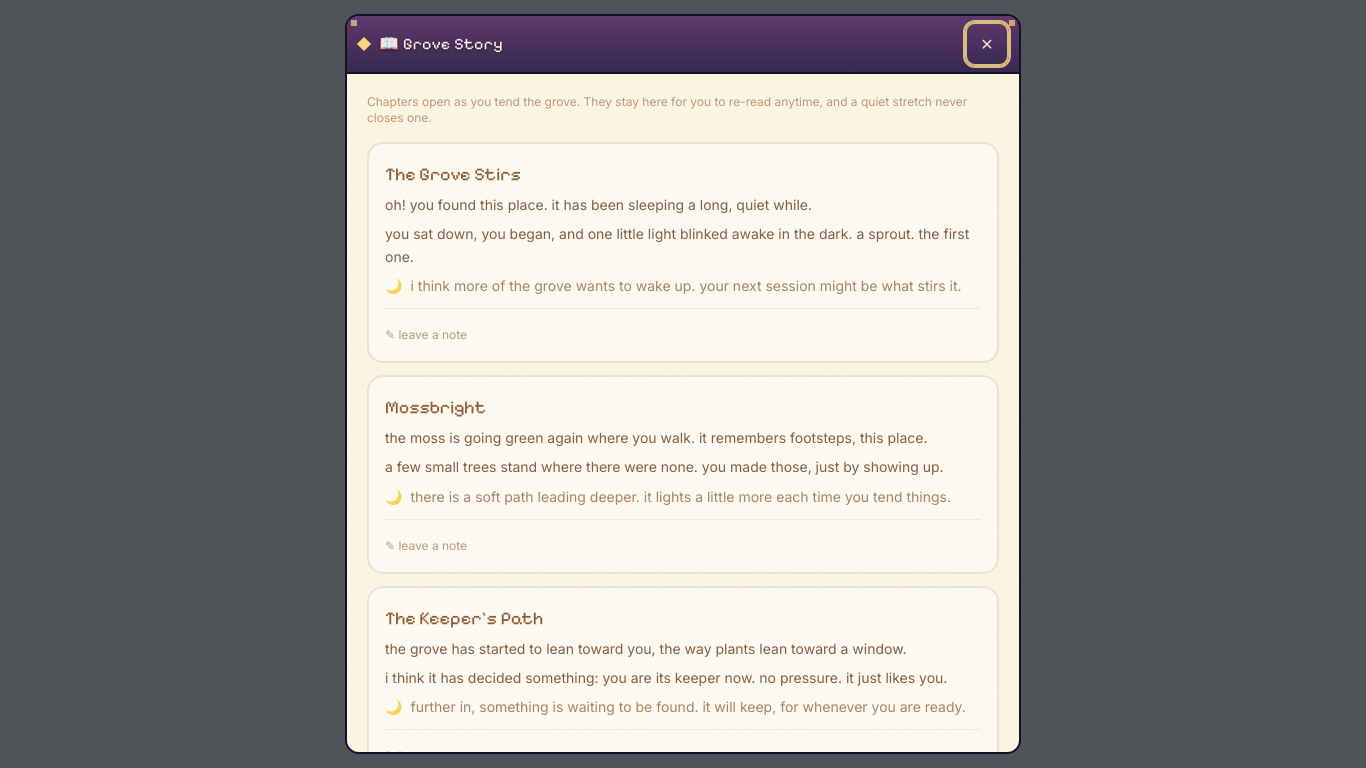
Test: StoryModal › lets her leave a keeper note that persists and reads back as "you wrote"
Click the button "✎ leave a note" below "The Grove Stirs" at (426, 335), box [385, 327, 467, 343]
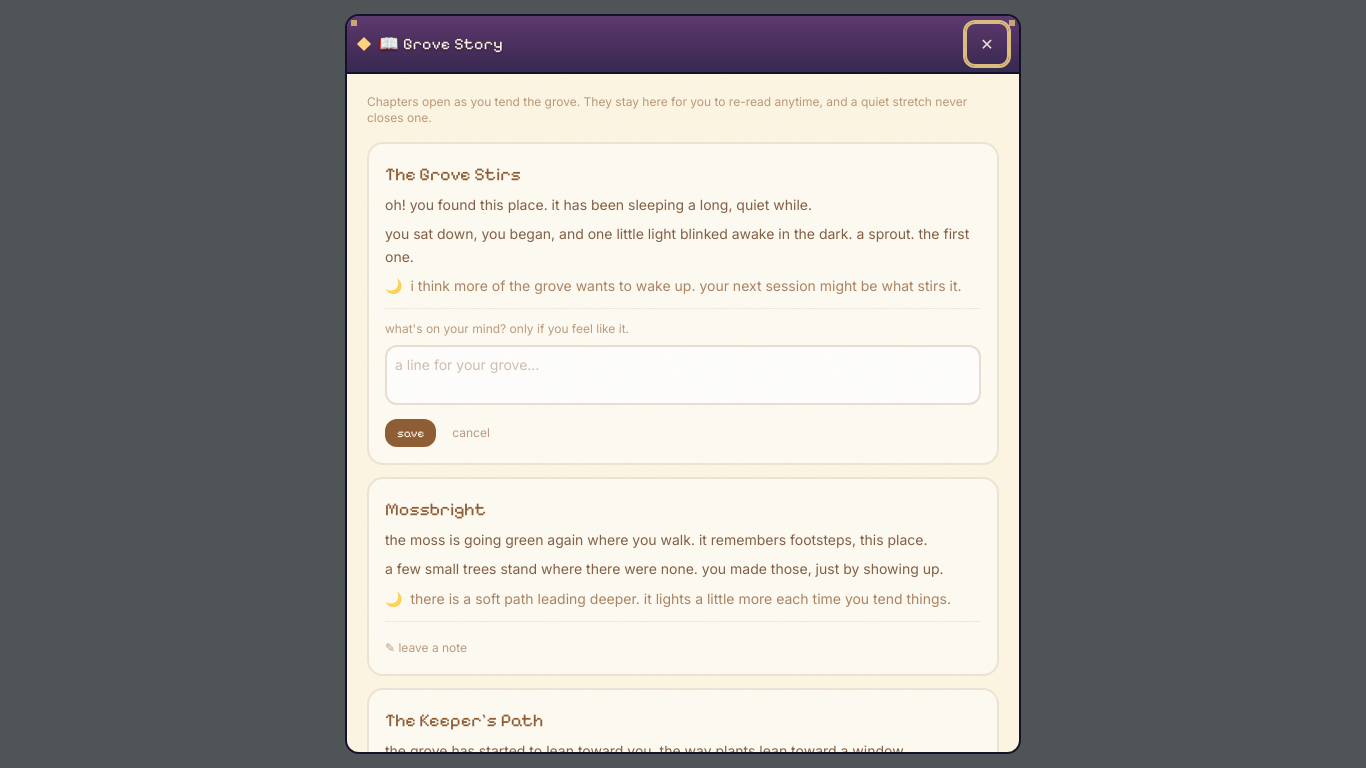
Type "i finished my essay today" into the text box at (683, 375), box [385, 345, 981, 405]
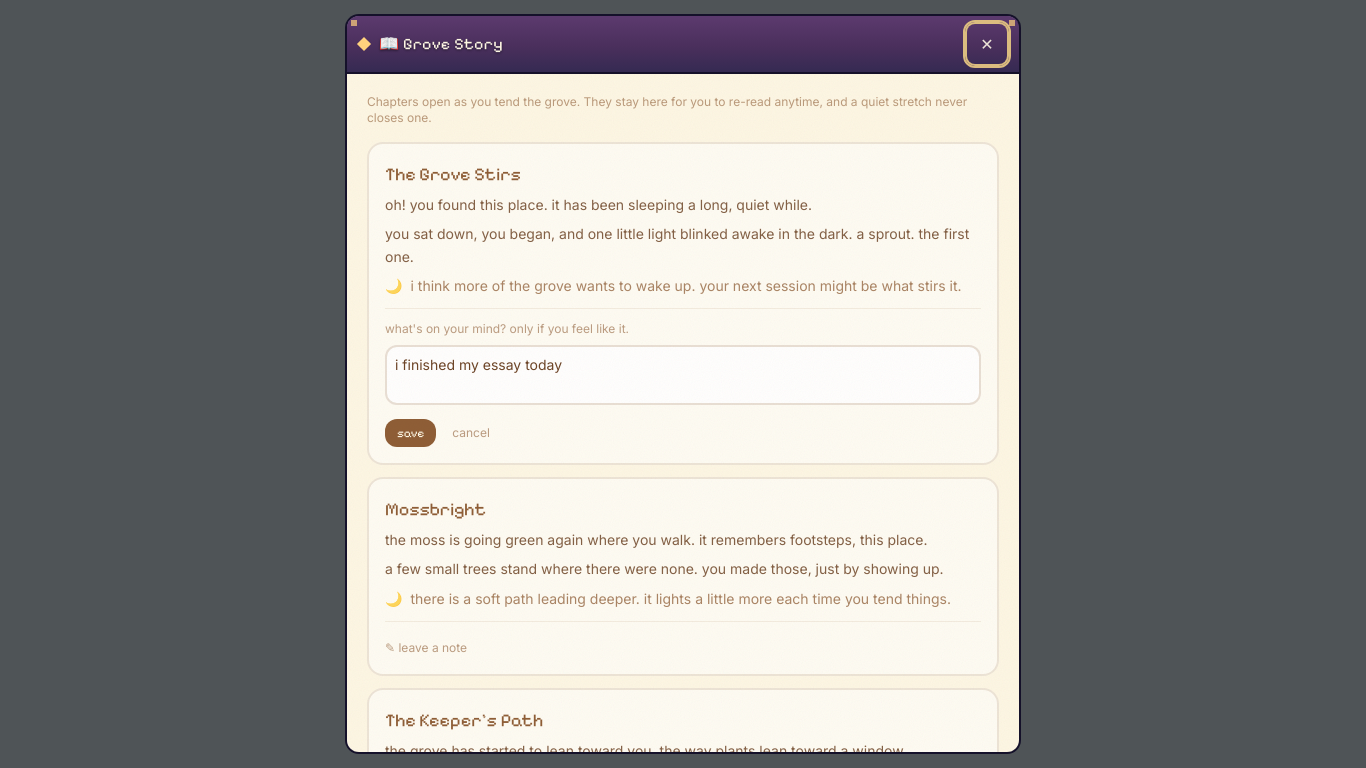
Click the button "save" at (411, 433), box [385, 419, 436, 447]
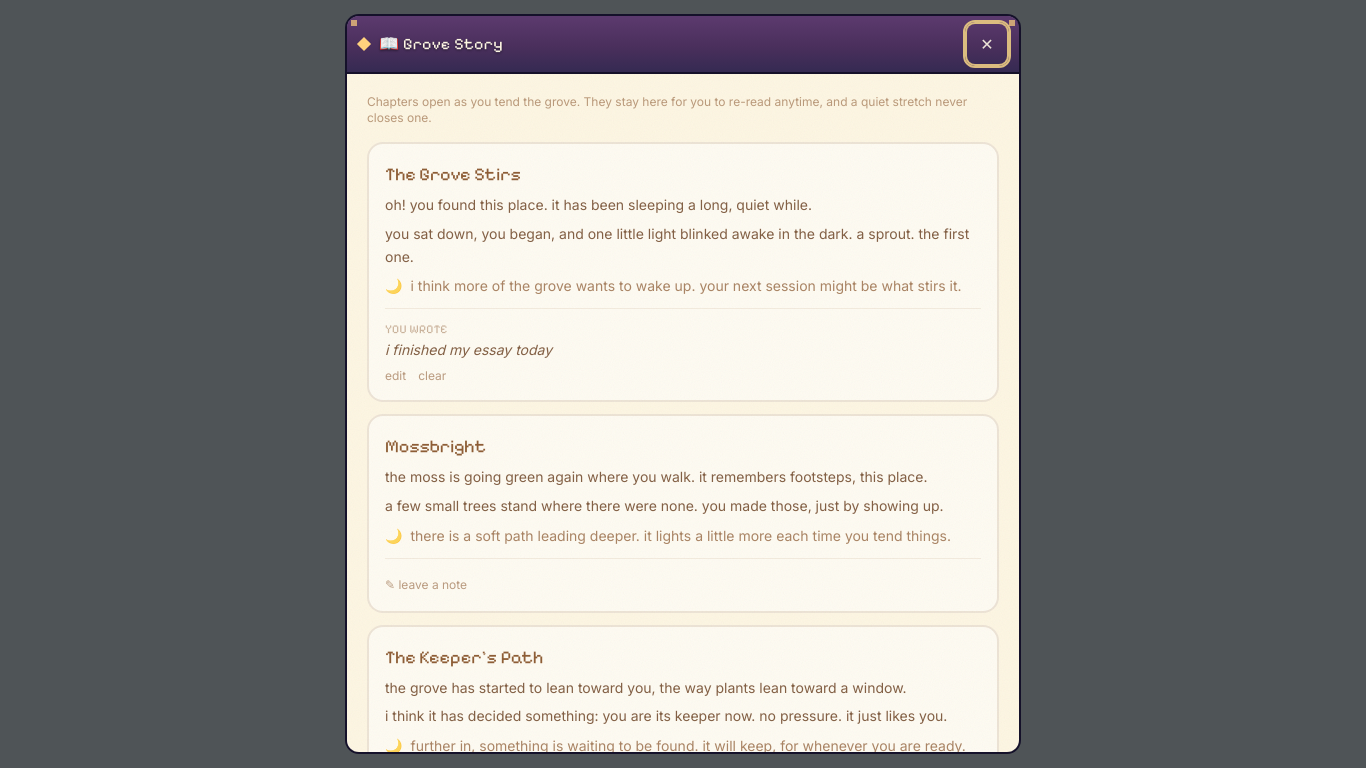
Result: the text "you wrote" is shown at [385, 322, 448, 336]
Result: the text "i finished my essay today" is shown at [385, 341, 552, 358]
